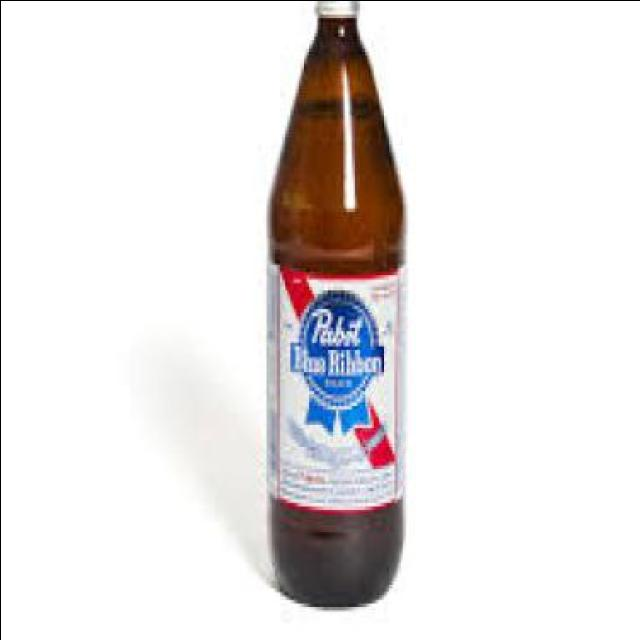kaca: (262, 14, 397, 602)
